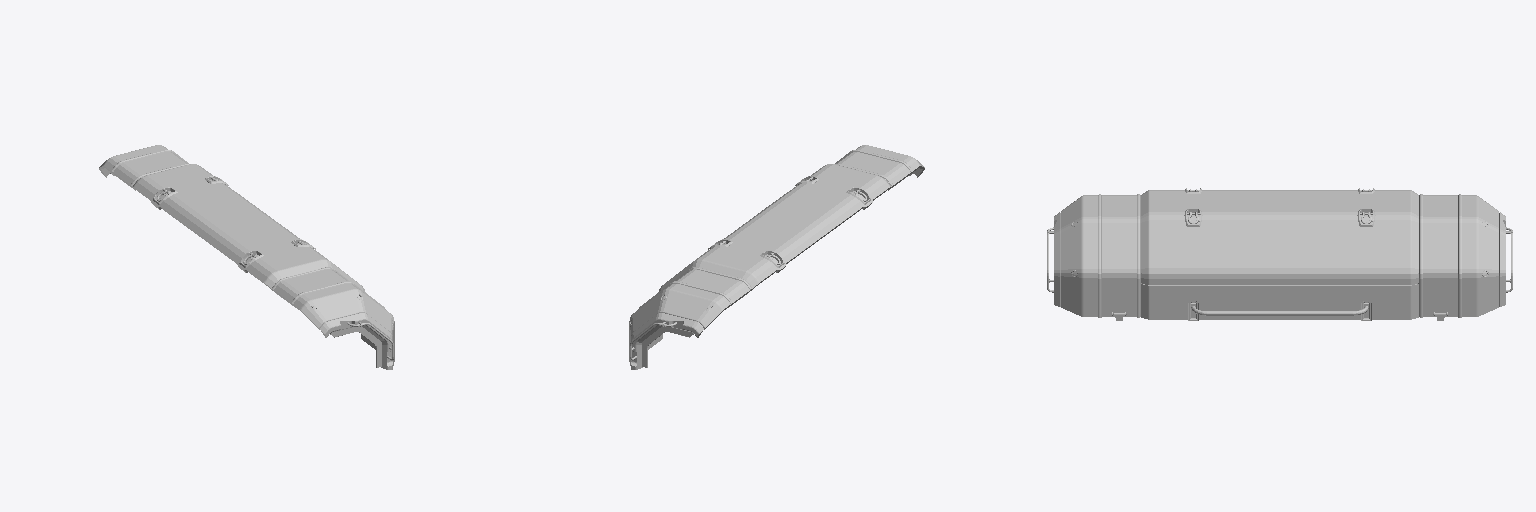
The model's file is SuplieTapa.obj.
3 renders of one model, left to right at view 1: azimuth 30°, elevation 25°; view 2: azimuth 150°, elevation 25°; view 3: azimuth 270°, elevation 25°, orthographic.
Parts seen in each view (by area): view 1: Suplie:MainBaseLogoLid1; view 2: Suplie:MainBaseLogoLid1; view 3: Suplie:MainBaseLogoLid1.
Boxes of the visible parts, box(x1,y1,x2,y2) form: Suplie:MainBaseLogoLid1: box(99, 145, 394, 369); Suplie:MainBaseLogoLid1: box(629, 145, 924, 369); Suplie:MainBaseLogoLid1: box(1047, 188, 1512, 320).
Size of the model in its own units: 0.9145 by 0.677 by 3.16.